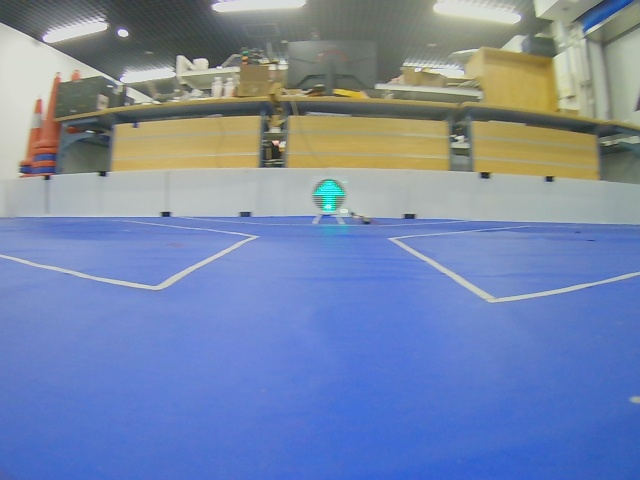straight_green: (312, 179, 346, 213)
